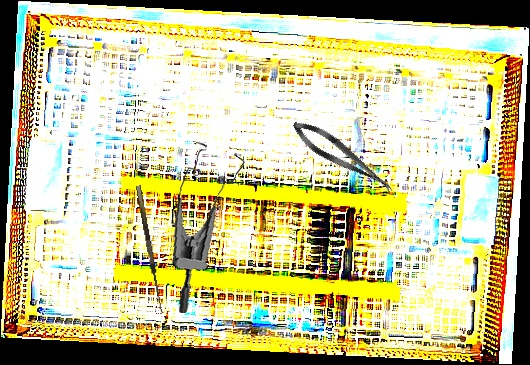Hook Surgical: (135, 183, 171, 315)
Micro Scissor: (287, 114, 399, 200)
Speculum: (159, 137, 261, 314)
